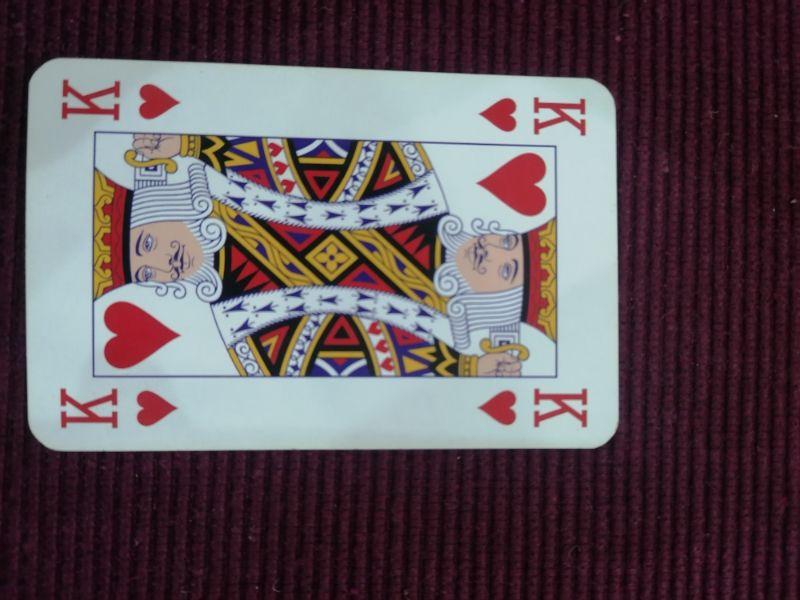Kh: (476, 85, 593, 142), (55, 75, 185, 122), (54, 385, 182, 431), (477, 384, 591, 430)
